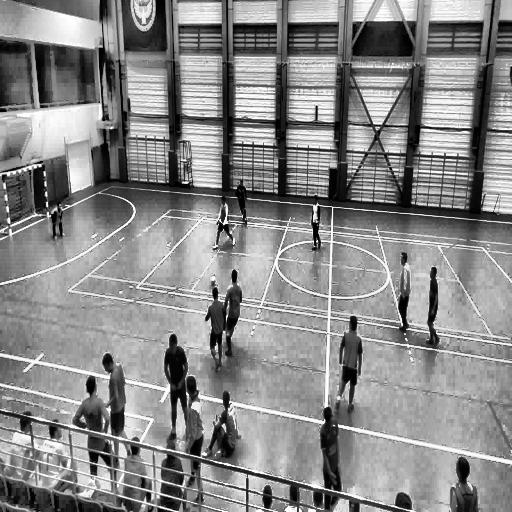ball: (209, 274, 216, 287)
player: (334, 315, 362, 412), (102, 350, 127, 457), (320, 404, 342, 507), (204, 286, 228, 372), (185, 382, 204, 487), (223, 268, 243, 356), (425, 266, 441, 346), (214, 194, 236, 249), (397, 252, 411, 334), (51, 200, 66, 240), (311, 198, 322, 252), (235, 181, 248, 223)
